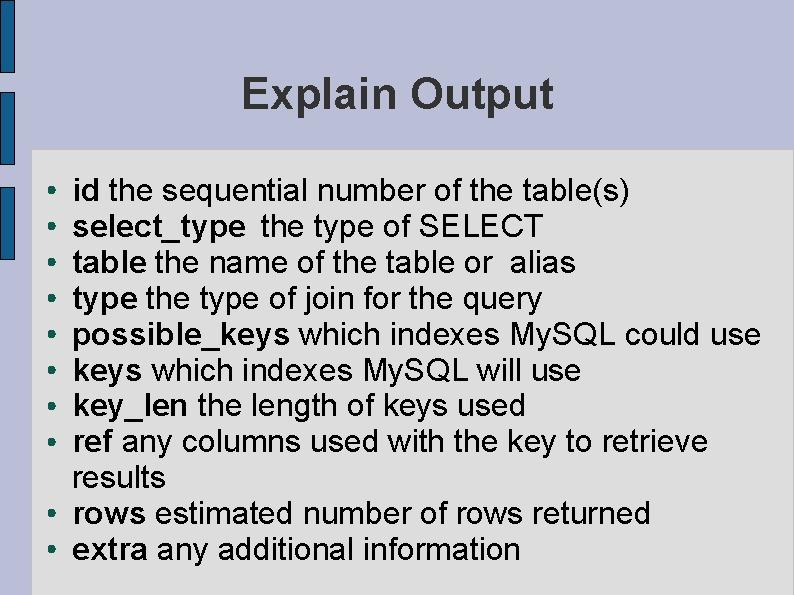paragraph: (60, 161, 775, 577)
title: (237, 68, 559, 119)
